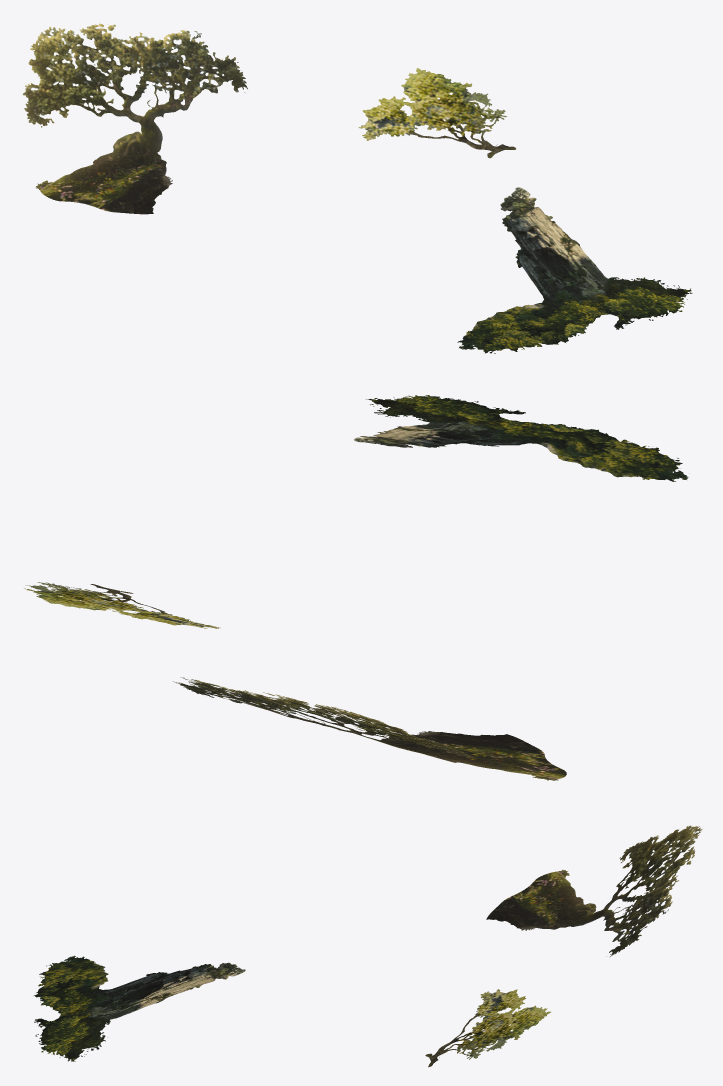
Rendered from map_3d_chapter_01.FBX.
The picture shows the model from 3 angles, top to bottom: view 1: azimuth 30°, elevation 25°; view 2: azimuth 150°, elevation 25°; view 3: azimuth 270°, elevation 25°; orthographic projection. The views are drawn at different scales.
Parts seen in each view (by area): view 1: chapter_01_element_01; view 2: chapter_01_element_01; view 3: chapter_01_element_01.
Part boxes in pixels (x1,y1,x2,y2): chapter_01_element_01: (22, 23, 692, 353); chapter_01_element_01: (24, 395, 688, 780); chapter_01_element_01: (34, 825, 702, 1067).
Size of the model in its own units: 132 by 31.13 by 187.
